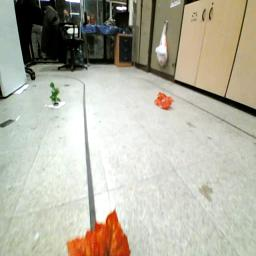herb: (49, 82, 65, 107)
wild: (65, 207, 133, 256), (155, 92, 175, 111)
